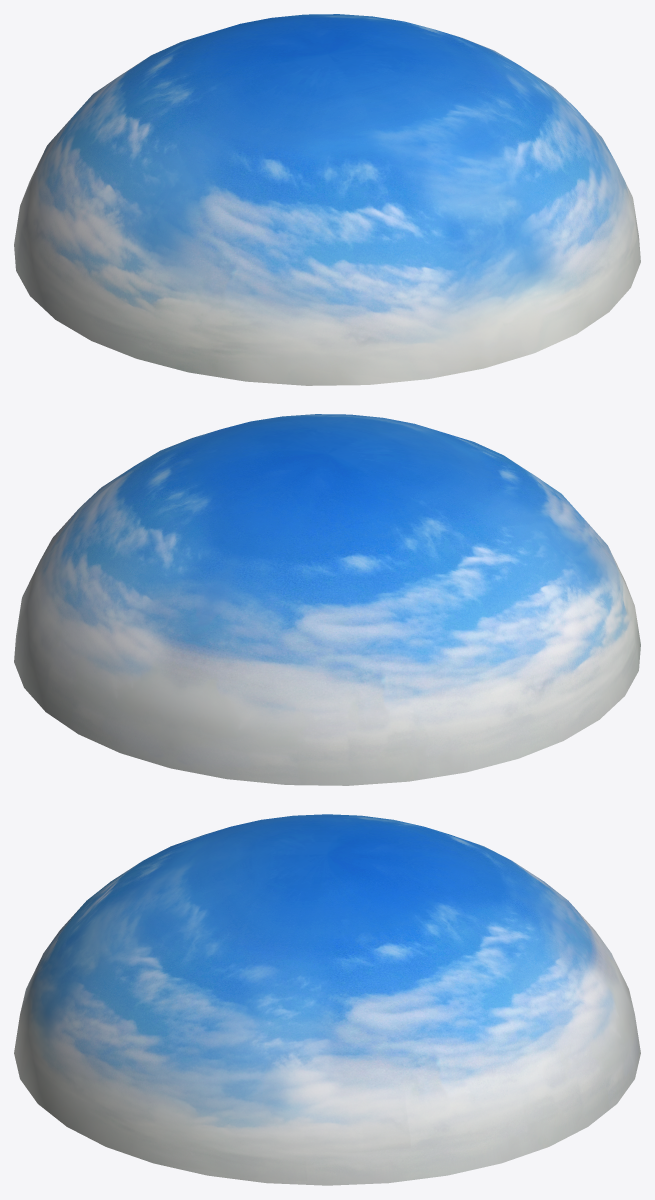
File: Skydome.obj
3 renders of one model, top to bottom at view 1: azimuth 30°, elevation 25°; view 2: azimuth 150°, elevation 25°; view 3: azimuth 270°, elevation 25°, orthographic.
Visible parts, largest first — view 1: Skydome; view 2: Skydome; view 3: Skydome.
Part boxes in pixels (x1=…): Skydome: x1=14, y1=14, x2=640, y2=385; Skydome: x1=14, y1=414, x2=640, y2=785; Skydome: x1=14, y1=814, x2=640, y2=1185.
Size of the model in its own units: 4500 by 1575 by 4500.
Materials: 1 (1 with a texture image).
